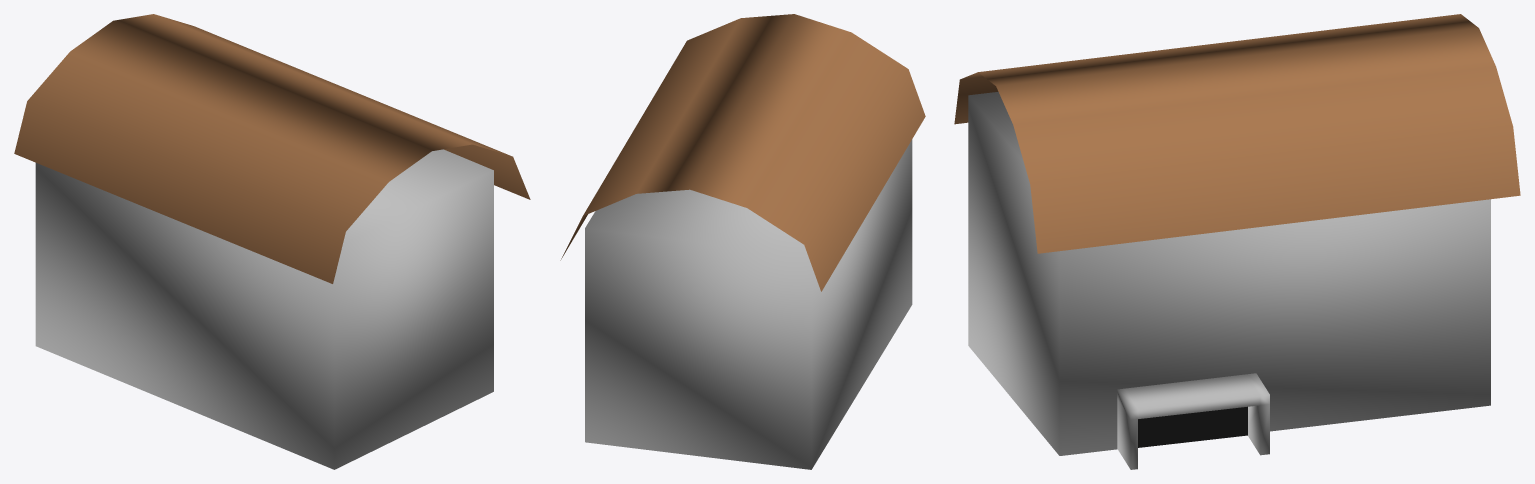
Rendered from changgo.fbx.
3 renders of one model, left to right at view 1: azimuth 30°, elevation 25°; view 2: azimuth 150°, elevation 25°; view 3: azimuth 270°, elevation 25°, orthographic. The views are drawn at different scales.
Parts seen in each view (by area): view 1: 평면.003; view 2: 평면.003; view 3: 평면.003.
Part boxes in pixels (<box>): 평면.003: <box>14,14,530,469</box>; 평면.003: <box>560,14,925,469</box>; 평면.003: <box>954,14,1520,469</box>.
Bounding box in the file's own units: 237 × 188 × 302.
